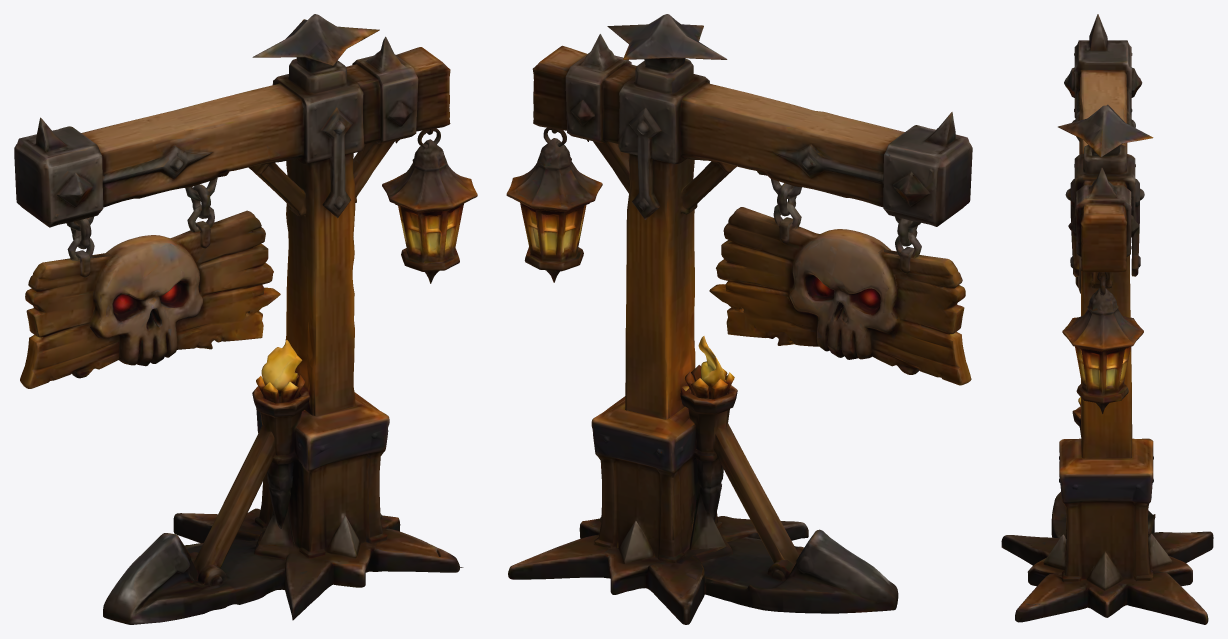
File: skull.glb
3 renders of one model, left to right at view 1: azimuth 30°, elevation 25°; view 2: azimuth 150°, elevation 25°; view 3: azimuth 270°, elevation 25°, orthographic. The views are drawn at different scales.
Parts seen in each view (by area): view 1: material; view 2: material; view 3: material.
Boxes of the visible parts, x1,y1,x2,y2 form: material: (14, 14, 477, 624); material: (506, 14, 972, 624); material: (1001, 14, 1213, 624).
Bounding box in the file's own units: 0.8327 × 0.9609 × 0.3869.
Materials: 1 (1 with a texture image).
